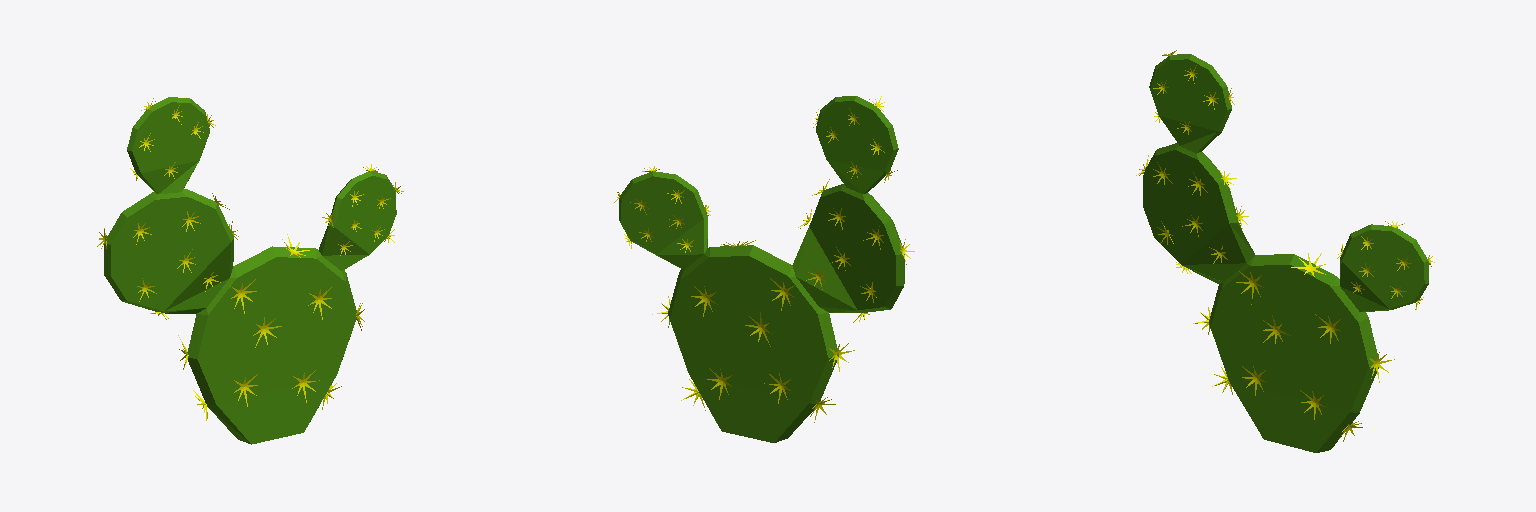
3 views of the same model, side by side, from view 1: azimuth 30°, elevation 25°; view 2: azimuth 150°, elevation 25°; view 3: azimuth 330°, elevation 25° (orthographic).
Parts seen in each view (by area): view 1: Cactus_01_cactus01; view 2: Cactus_01_cactus01; view 3: Cactus_01_cactus01.
Boxes of the visible parts, x1=… form: Cactus_01_cactus01: x1=97, y1=97, x2=403, y2=444; Cactus_01_cactus01: x1=614, y1=96, x2=914, y2=442; Cactus_01_cactus01: x1=1136, y1=50, x2=1434, y2=452.
Bounding box in the file's own units: 526 × 611 × 82.51.
1 materials, 1 textured.